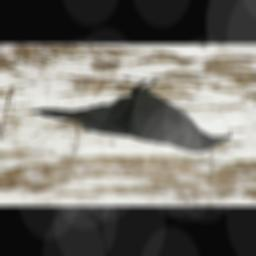Crow: (33, 77, 238, 157)
